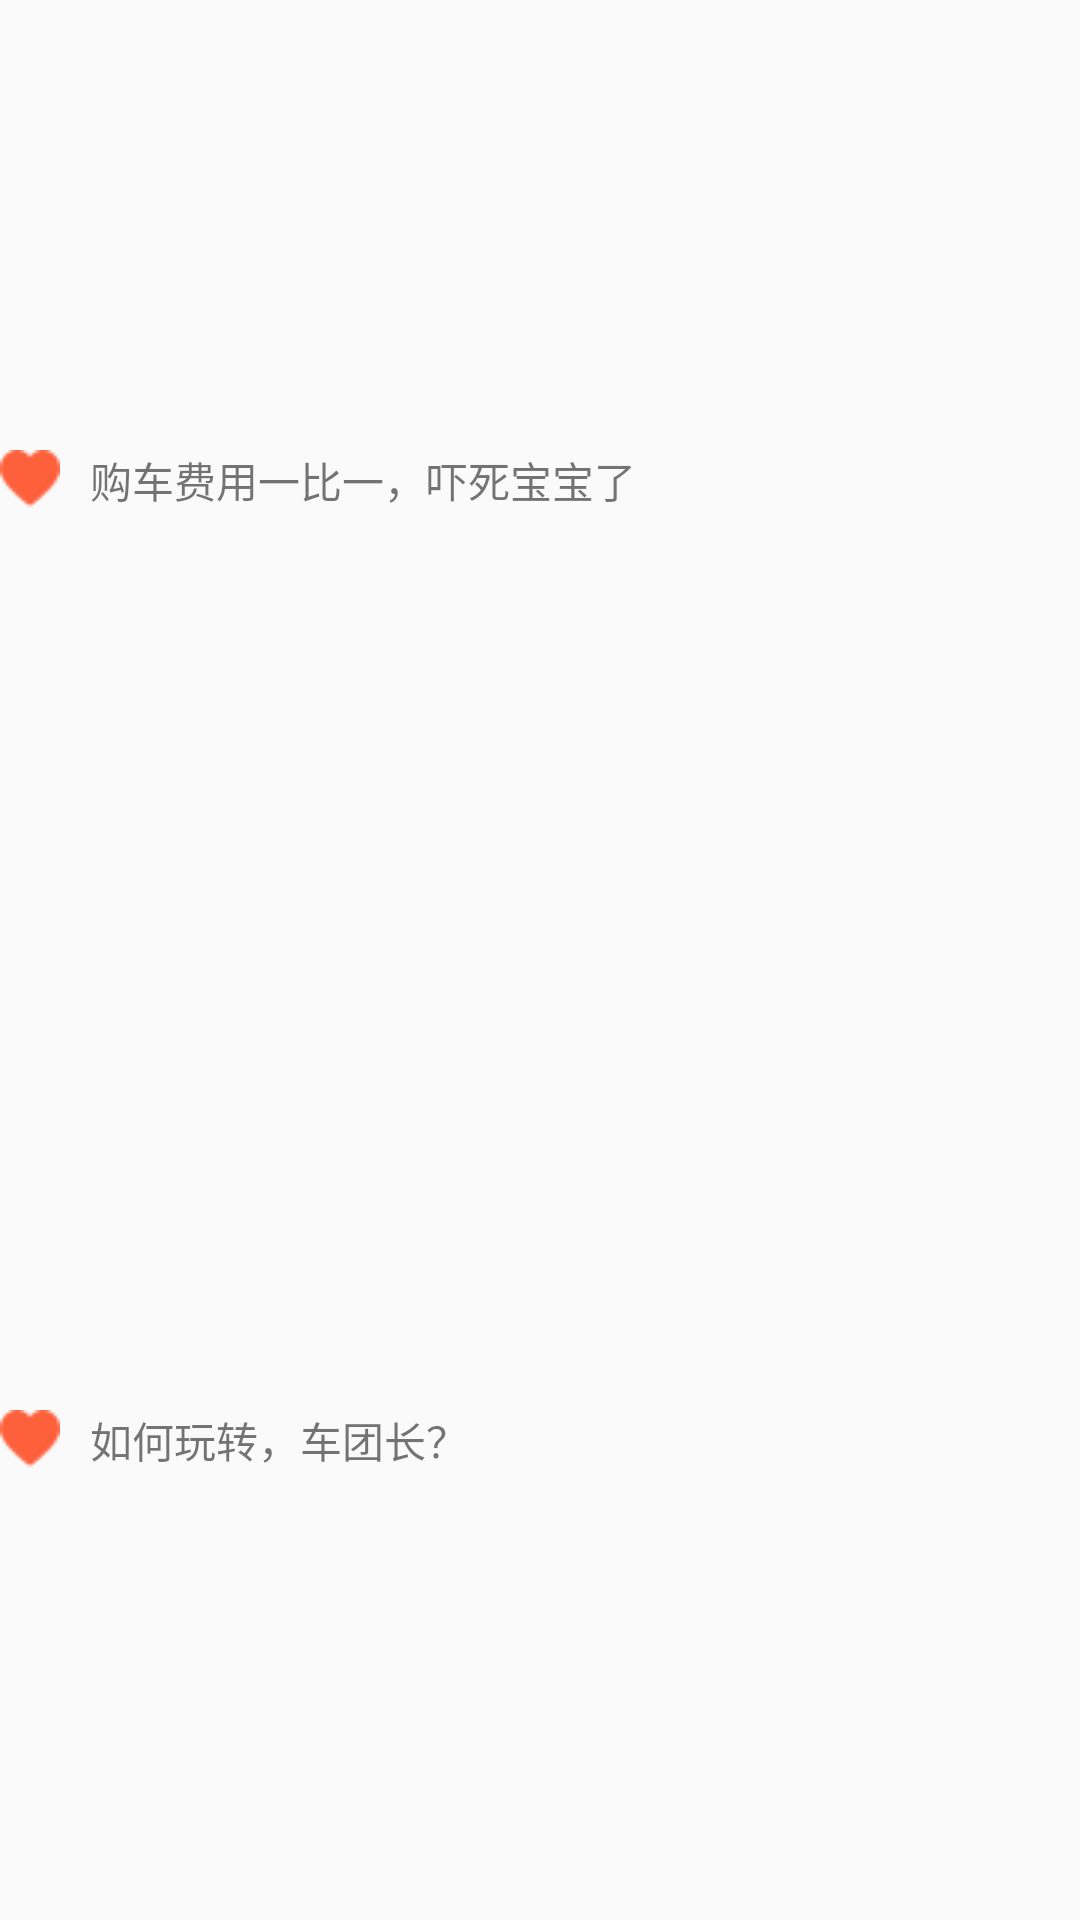

Named icons in this screenshot (1080*1920) and their bounding boxes, (x1, y1, x2, y2):
aixin: (0, 450, 60, 507), (0, 1410, 60, 1467)
